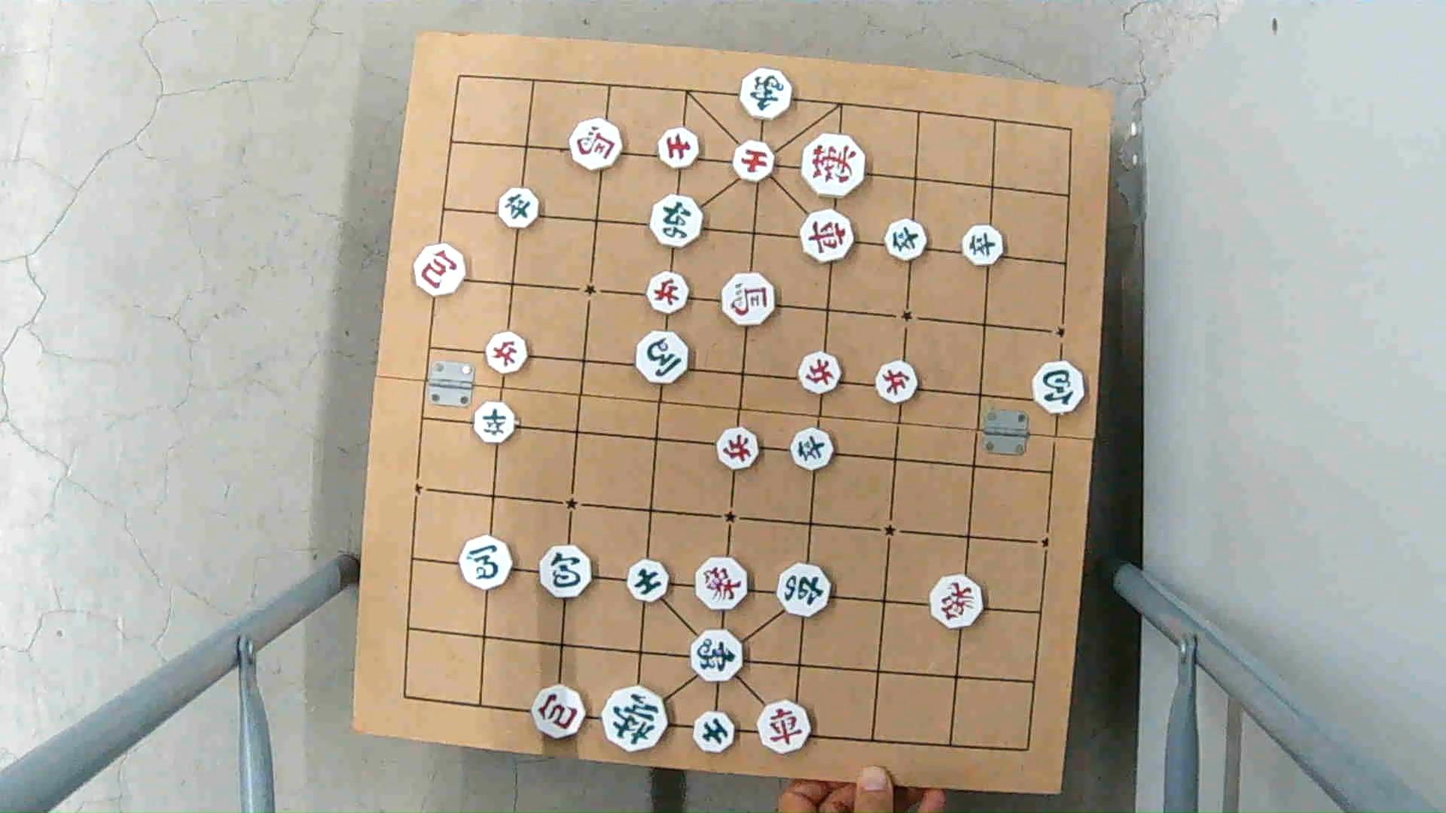cha_green: (649, 194, 705, 244), (776, 565, 831, 615)
cha_red: (758, 702, 813, 752), (800, 212, 856, 260)
jol_green: (792, 429, 835, 473), (495, 190, 540, 229), (473, 403, 519, 441), (883, 220, 927, 259), (960, 226, 1005, 263)
jol_red: (797, 354, 845, 392), (645, 275, 690, 315), (718, 430, 764, 469), (485, 334, 530, 373), (874, 363, 919, 401)
ma_green: (634, 332, 691, 382), (459, 536, 514, 585)
ma_red: (721, 273, 776, 328), (568, 117, 623, 169)
po_green: (537, 547, 593, 595), (1030, 362, 1085, 410)
po_red: (415, 245, 470, 295), (529, 687, 586, 735)
sa_green: (627, 560, 674, 598), (690, 714, 736, 752)
sa_red: (730, 139, 776, 181), (655, 129, 700, 169)
sang_green: (688, 632, 747, 680), (739, 70, 793, 119)
sang_red: (696, 558, 750, 611), (929, 576, 986, 624)
wang_green: (602, 685, 670, 750)
wang_red: (801, 133, 866, 197)
